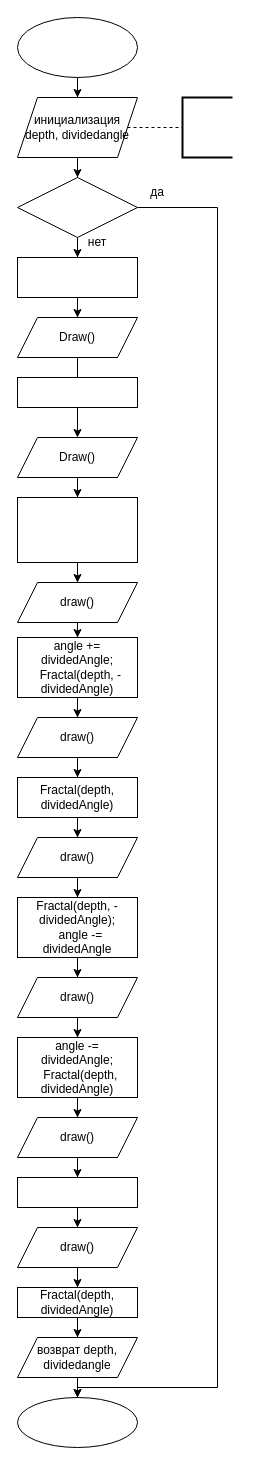
Some shapes in this 276 by 1465 pixel diagram are drawn without their labels. The centre of each missing label's shape, as x and y in pixels:
"Dec(depth) Fractal(depth, dividedAngle);" goes at [77,277].
"depth <= 0" goes at [77,207].
"fractal начало" goes at [77,47].
"Fractal(depth, -dividedAngle)" goes at [77,1192].
"Fractal(depth, -dividedAngle);" goes at [77,392].
"Fractal(depth, dividedAngle); angle += dividedAngle" goes at [77,529].
"конец fractal" goes at [77,1422].
"по значению" goes at [207,127].
